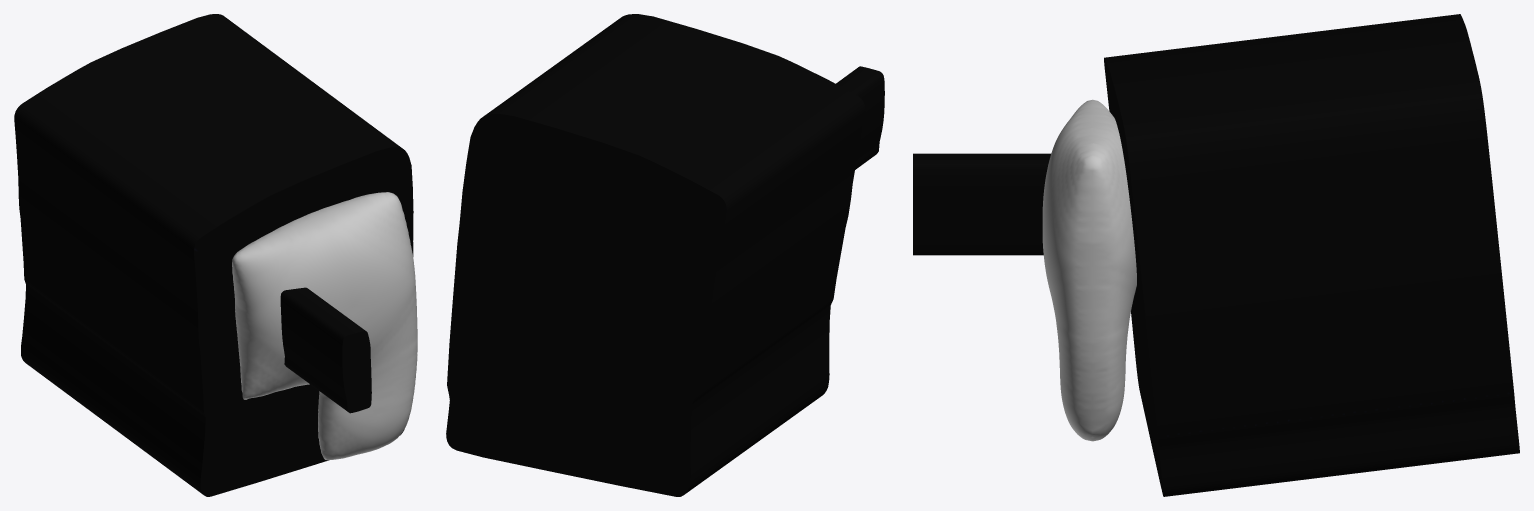
File: num9.glb
3 views of the same model, side by side, from view 1: azimuth 30°, elevation 25°; view 2: azimuth 150°, elevation 25°; view 3: azimuth 270°, elevation 25° (orthographic). The views are drawn at different scales.
Parts seen in each view (by area): view 1: mesh_id40, mesh_id38, mesh_id30; view 2: mesh_id40, mesh_id30; view 3: mesh_id40, mesh_id38, mesh_id30.
Part boxes in pixels (x1,y1,x2,y2): mesh_id40: [14, 14, 413, 496]; mesh_id38: [232, 192, 417, 460]; mesh_id30: [280, 287, 371, 413]; mesh_id40: [446, 14, 865, 496]; mesh_id30: [836, 66, 884, 169]; mesh_id40: [1104, 14, 1519, 496]; mesh_id38: [1042, 99, 1136, 441]; mesh_id30: [913, 153, 1050, 255].
Bounding box in the file's own units: 0.0975 × 0.1195 × 0.1689.
Materials: 3 (3 with a texture image).
